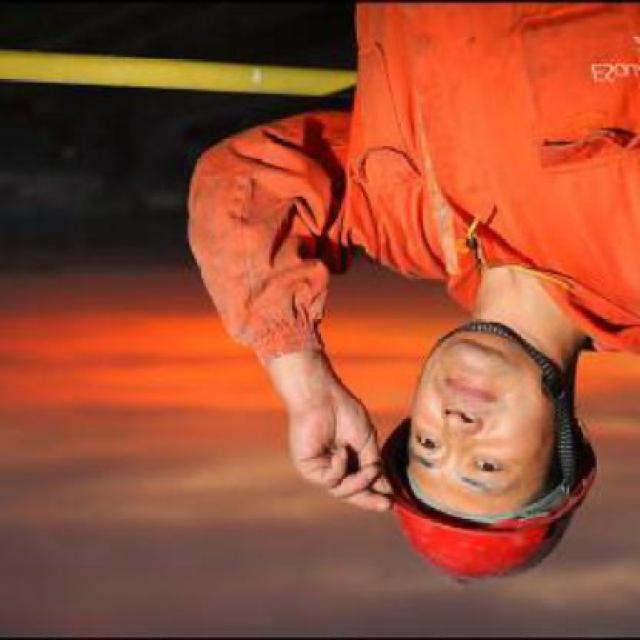con casco: (333, 171, 624, 580)
